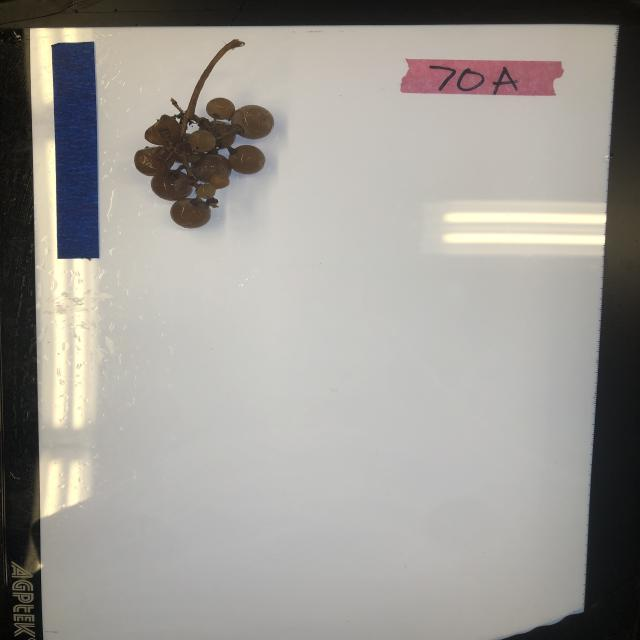grape_cluster: (132, 37, 276, 230)
index: (400, 56, 565, 99)
measure_label: (51, 41, 101, 259)
